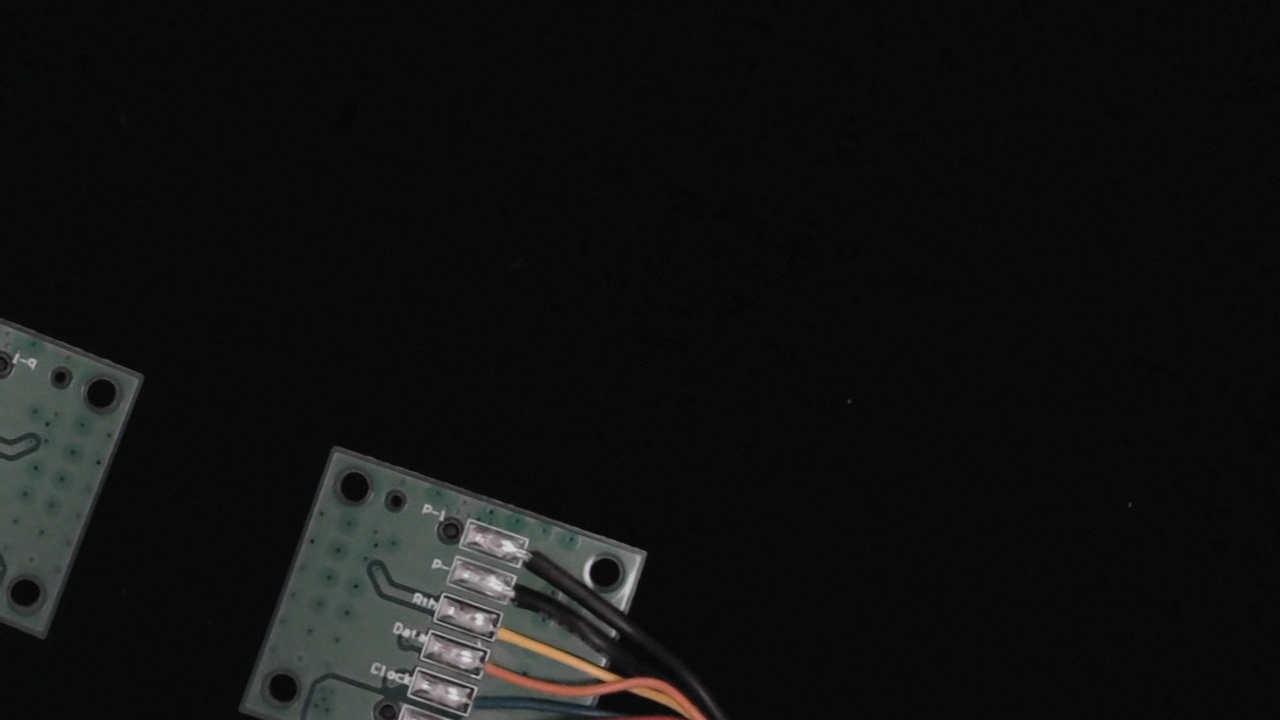Black: (492, 571, 557, 619)
Black1: (505, 534, 570, 584)
Green: (453, 680, 513, 720)
Orange: (465, 646, 529, 692)
Red: (441, 719, 507, 720)
Yellow: (478, 610, 544, 657)
